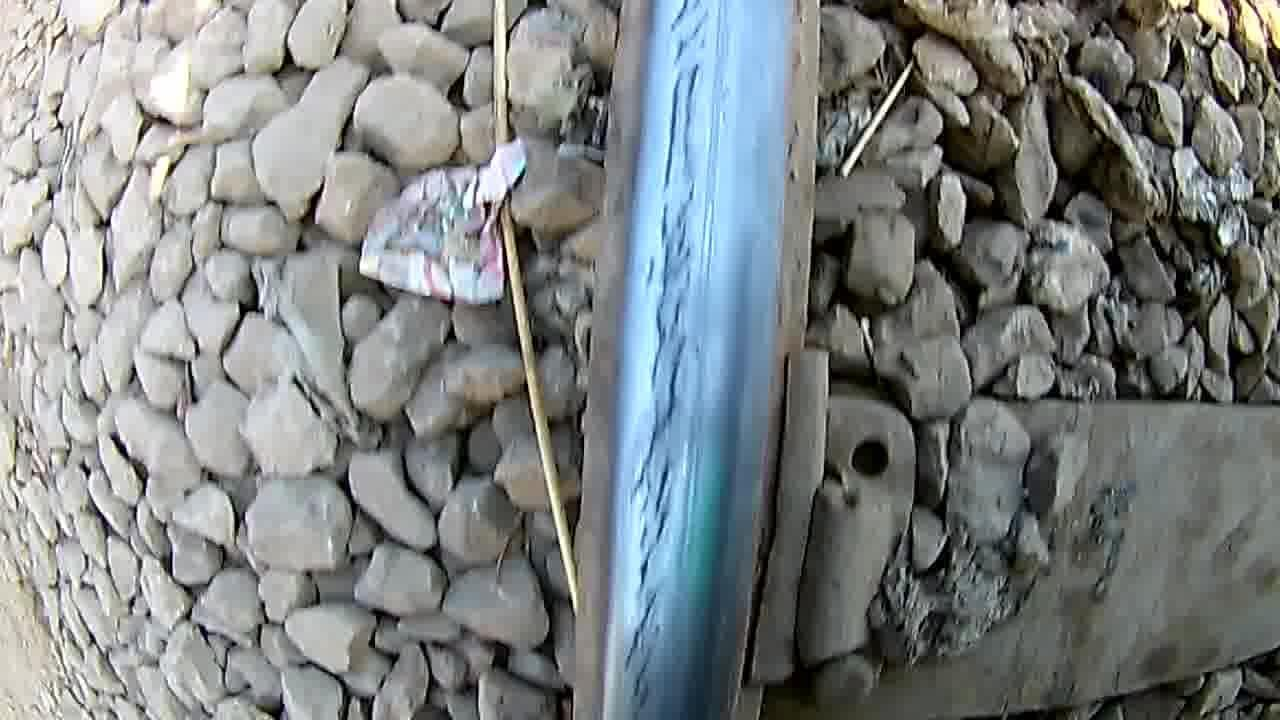crack: (617, 2, 716, 720)
